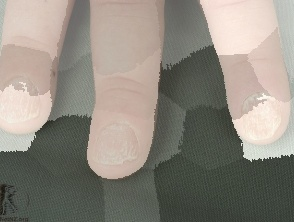Nail_psoriasis: (84, 112, 152, 176), (230, 83, 294, 147), (0, 64, 48, 130)
